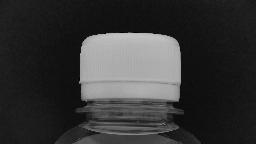Good Cap: (73, 29, 187, 119)
